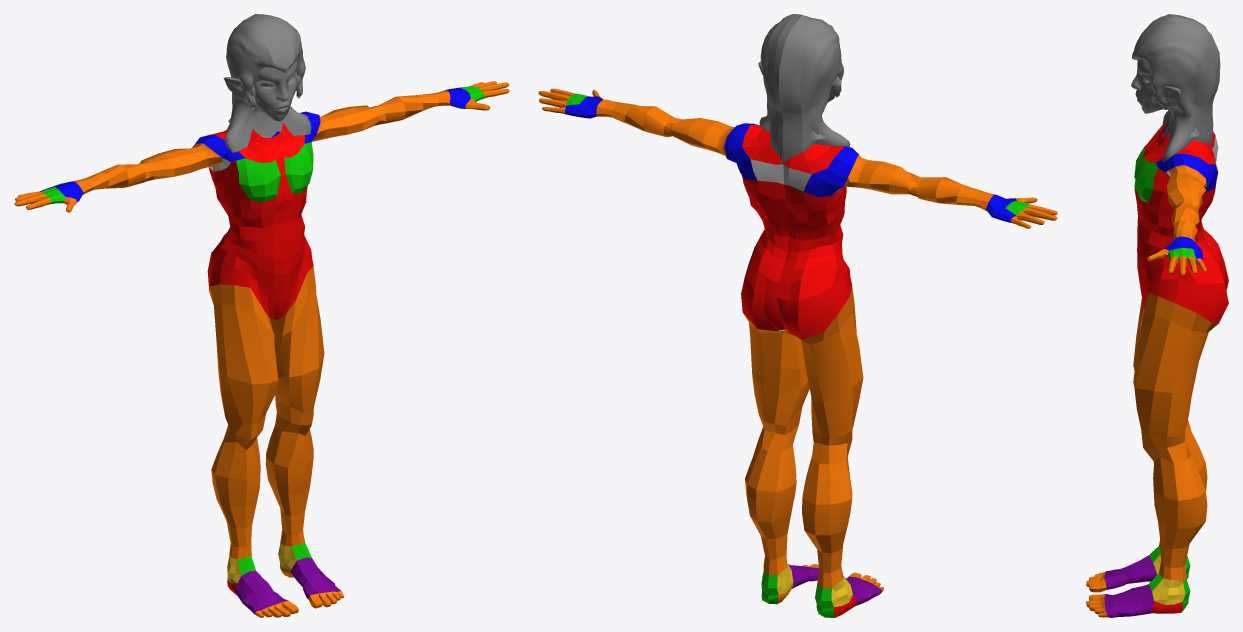
Rendered from Fae_to_sculpt.obj.
3 views of the same model, side by side, from view 1: azimuth 30°, elevation 25°; view 2: azimuth 150°, elevation 25°; view 3: azimuth 270°, elevation 25° (orthographic). The views are drawn at different scales.
Parts seen in each view (by area): view 1: GenericMesh_human:polySurface7, initialShadingGroup polySurface10, initialShadingGroup polySurface7; view 2: GenericMesh_human:polySurface7, initialShadingGroup polySurface10; view 3: GenericMesh_human:polySurface7, initialShadingGroup polySurface10, initialShadingGroup polySurface7, polySurface11.
Part boxes in pixels (bbox=[...]): GenericMesh_human:polySurface7: bbox=[14, 81, 509, 617]; initialShadingGroup polySurface10: bbox=[225, 14, 311, 152]; initialShadingGroup polySurface7: bbox=[228, 61, 297, 137]; GenericMesh_human:polySurface7: bbox=[538, 88, 1057, 617]; initialShadingGroup polySurface10: bbox=[759, 14, 850, 163]; GenericMesh_human:polySurface7: bbox=[1086, 109, 1228, 617]; initialShadingGroup polySurface10: bbox=[1132, 14, 1220, 161]; initialShadingGroup polySurface7: bbox=[1131, 59, 1200, 138]; polySurface11: bbox=[1151, 86, 1181, 109].
Size of the model in its own units: 33.84 by 36.97 by 8.24.
